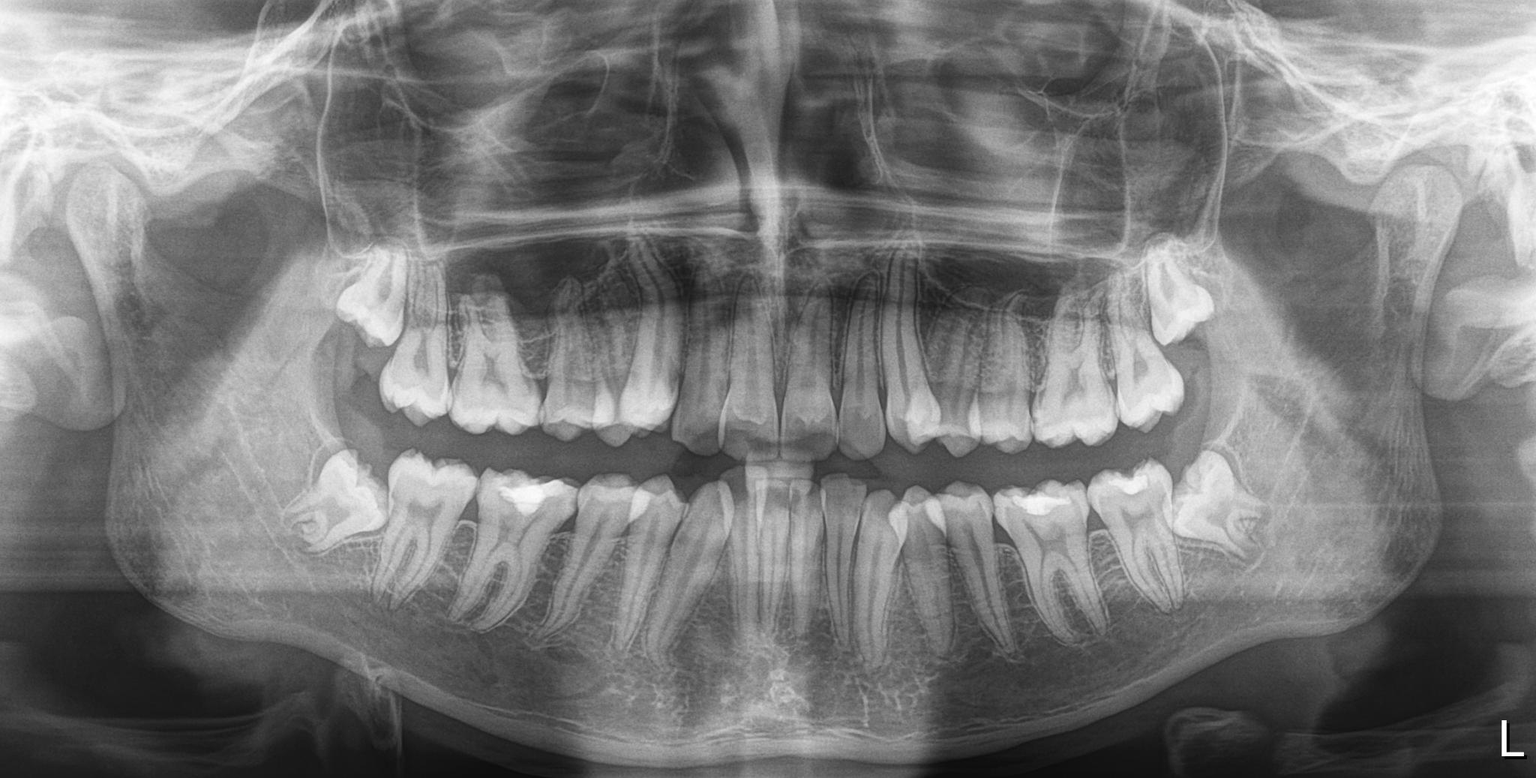Impacted Third Molar: (1181, 441, 1300, 592), (298, 435, 388, 547), (1144, 259, 1232, 351), (351, 238, 412, 336)
